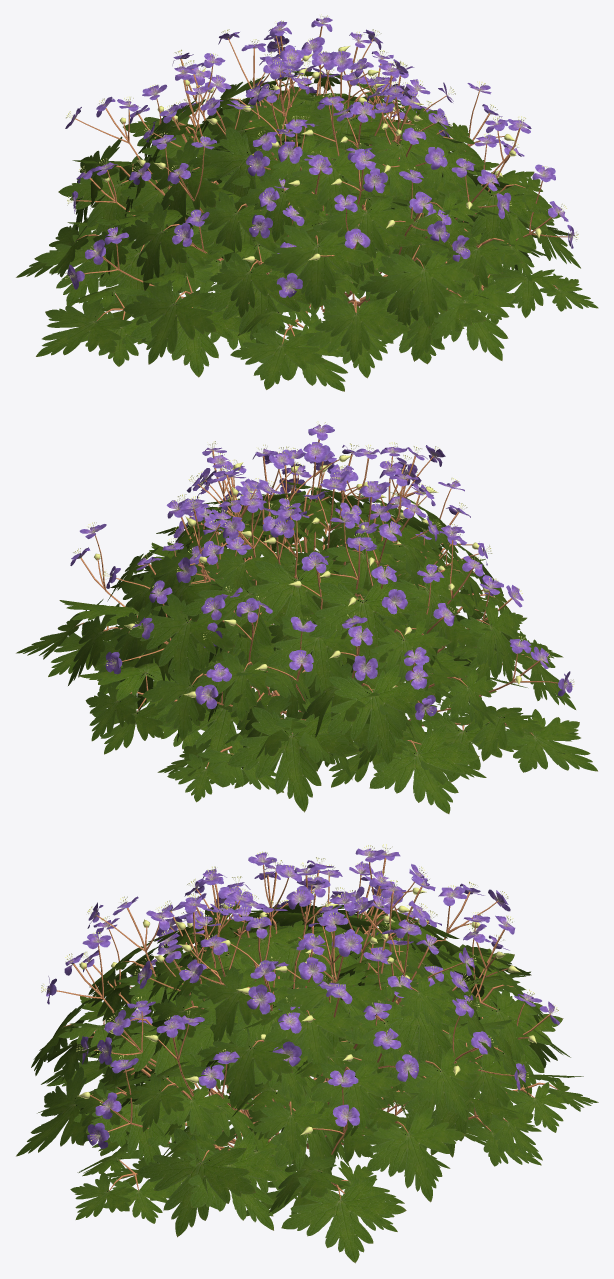
File: Geranium macrorrhizum.fbx
The picture shows the model from 3 angles, top to bottom: view 1: azimuth 30°, elevation 25°; view 2: azimuth 150°, elevation 25°; view 3: azimuth 270°, elevation 25°; orthographic projection. The views are drawn at different scales.
Visible parts, largest first — view 1: Geranium_macrorrhizum_by_material_OBJ; view 2: Geranium_macrorrhizum_by_material_OBJ; view 3: Geranium_macrorrhizum_by_material_OBJ.
Part boxes in pixels (left/top/right/bottom): Geranium_macrorrhizum_by_material_OBJ: left=16, top=14, right=598, bottom=391; Geranium_macrorrhizum_by_material_OBJ: left=16, top=421, right=597, bottom=813; Geranium_macrorrhizum_by_material_OBJ: left=16, top=844, right=598, bottom=1263.
Bounding box in the file's own units: 6405 × 2710 × 5475.
